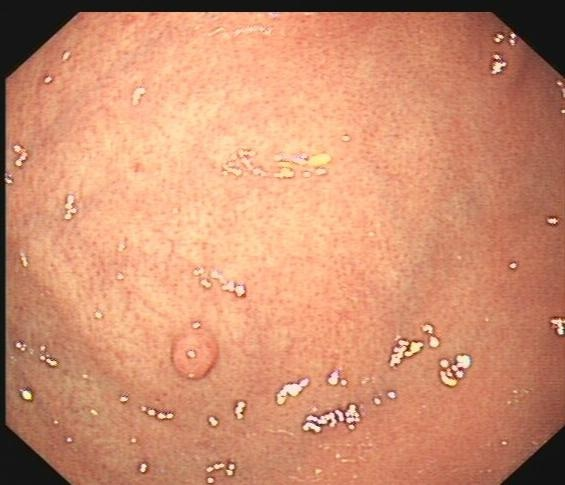Polyp: (170, 331, 220, 382)
